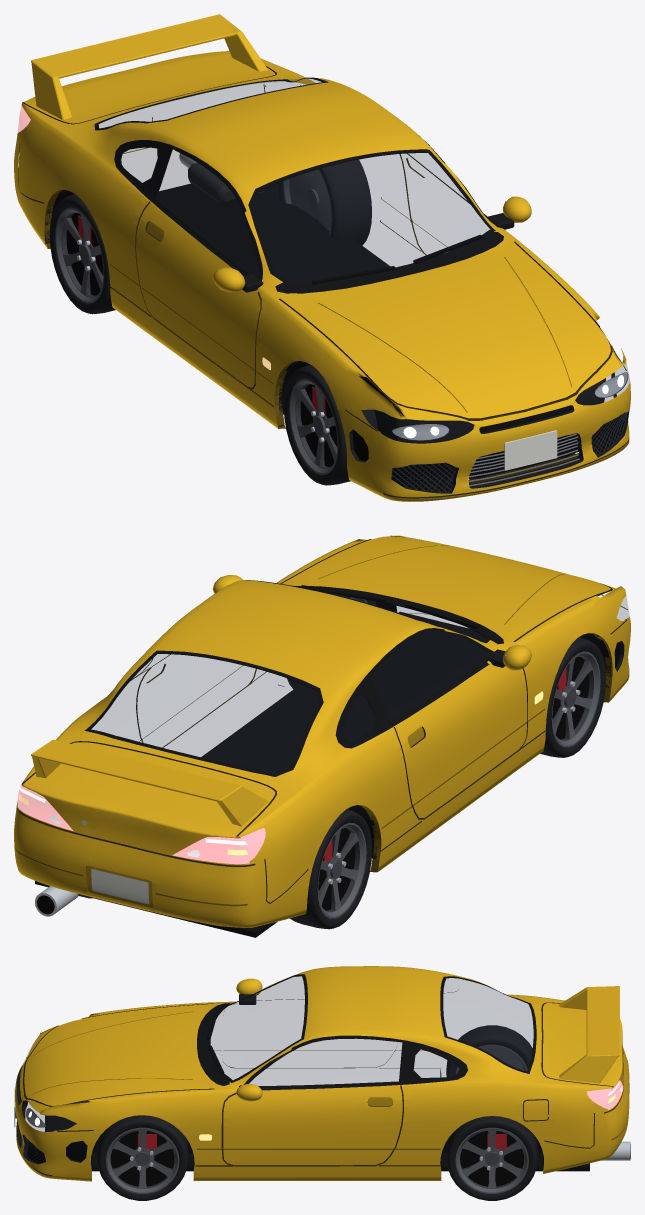
File: car_s15.glb
3 views of the same model, one above another, from view 1: azimuth 30°, elevation 25°; view 2: azimuth 150°, elevation 25°; view 3: azimuth 270°, elevation 25° (orthographic). The views are drawn at different scales.
Visible parts, largest first — view 1: body, wheel_fl, wheel_rl, wheel_rr; view 2: body, wheel_rl, wheel_fl; view 3: body, wheel_fr, wheel_rr, wheel_rl.
Part boxes in pixels (x1,y1,x2,y2): body: [14, 14, 630, 501]; wheel_fl: [283, 364, 377, 485]; wheel_rl: [49, 194, 115, 314]; wheel_rr: [277, 159, 371, 245]; body: [14, 535, 630, 937]; wheel_rl: [290, 809, 371, 929]; wheel_fl: [540, 637, 606, 757]; body: [14, 966, 630, 1181]; wheel_fr: [97, 1115, 188, 1200]; wheel_rr: [446, 1116, 537, 1200]; wheel_rl: [446, 1025, 532, 1077].
Bounding box in the file's own units: 1.94 × 1.28 × 4.46.
